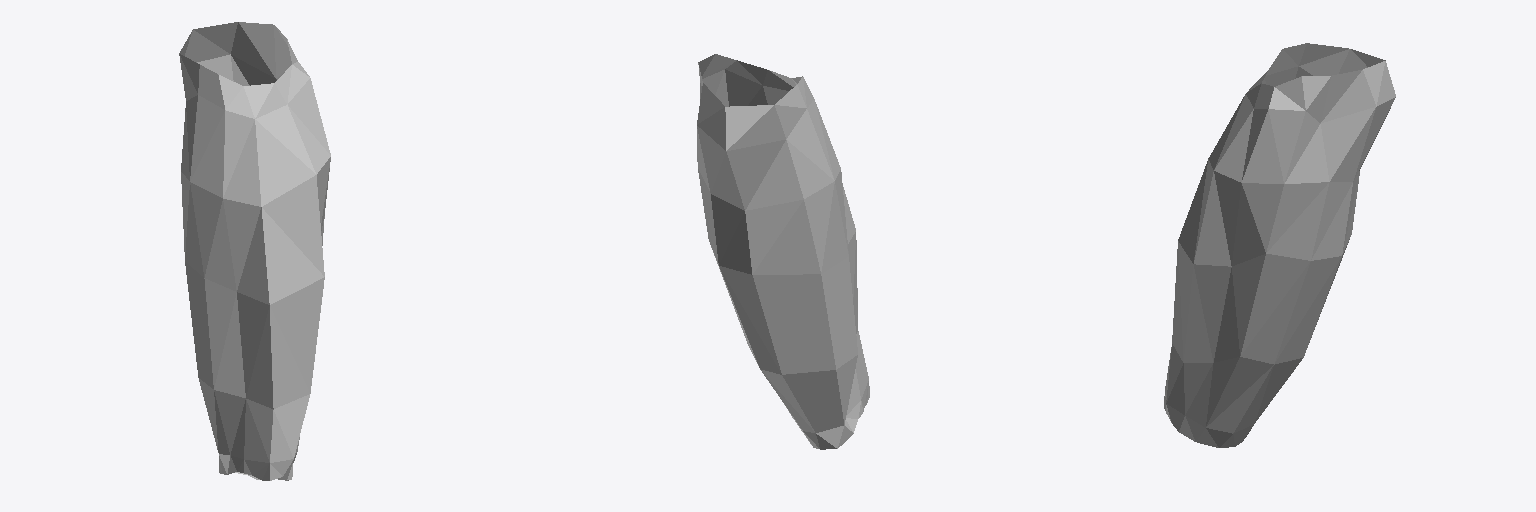
The model's file is Arm_Lower_Left.obj.
3 renders of one model, left to right at view 1: azimuth 30°, elevation 25°; view 2: azimuth 150°, elevation 25°; view 3: azimuth 270°, elevation 25°, orthographic.
Visible parts, largest first — view 1: Arm_Lower_Cube.038; view 2: Arm_Lower_Cube.038; view 3: Arm_Lower_Cube.038.
Part boxes in pixels (x1,y1,x2,y2): Arm_Lower_Cube.038: (179, 22, 330, 480); Arm_Lower_Cube.038: (697, 54, 869, 449); Arm_Lower_Cube.038: (1164, 43, 1395, 447).
Size of the model in its own units: 2.33 by 6.76 by 3.53.